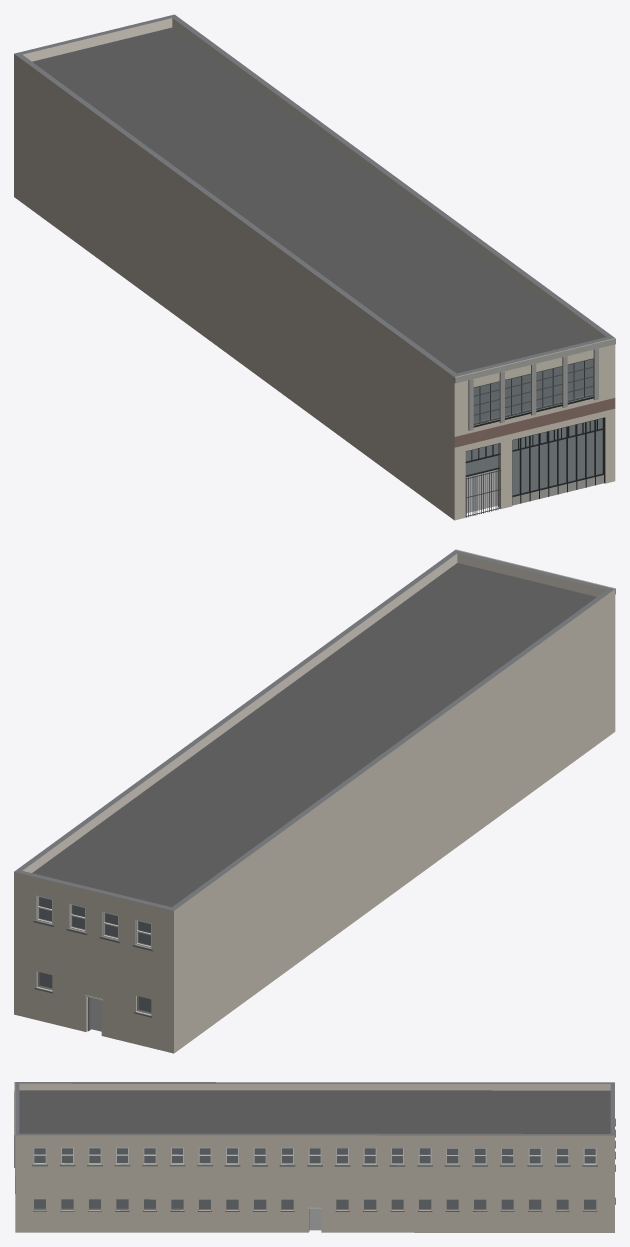
The model's file is exterior.glb.
3 renders of one model, top to bottom at view 1: azimuth 30°, elevation 25°; view 2: azimuth 150°, elevation 25°; view 3: azimuth 270°, elevation 25°, orthographic. The views are drawn at different scales.
Visible parts, largest first — view 1: shell, roof, glazing, shadow-proxy, relief-1, storefront, frames; view 2: shell, roof, shadow-proxy, glazing, frames; view 3: shell, roof, glazing, shadow-proxy, frames, trim.
Part boxes in pixels (left/top/right/bottom): shell: left=14, top=14, right=615, bottom=520; roof: left=32, top=27, right=596, bottom=373; glazing: left=465, top=359, right=603, bottom=495; shadow-proxy: left=466, top=359, right=601, bottom=512; relief-1: left=454, top=338, right=615, bottom=447; storefront: left=465, top=417, right=604, bottom=517; frames: left=473, top=358, right=593, bottom=425; shell: left=14, top=550, right=615, bottom=1053; roof: left=32, top=563, right=596, bottom=907; shadow-proxy: left=39, top=897, right=150, bottom=1031; glazing: left=37, top=897, right=151, bottom=1014; frames: left=36, top=895, right=151, bottom=948; shell: left=15, top=1082, right=614, bottom=1232; roof: left=19, top=1090, right=610, bottom=1133; glazing: left=34, top=1148, right=596, bottom=1210; shadow-proxy: left=34, top=1148, right=595, bottom=1230; frames: left=33, top=1147, right=596, bottom=1164; trim: left=32, top=1118, right=615, bottom=1211.
Bounding box in the file's own units: 10.48 × 8.8 × 49.34.
